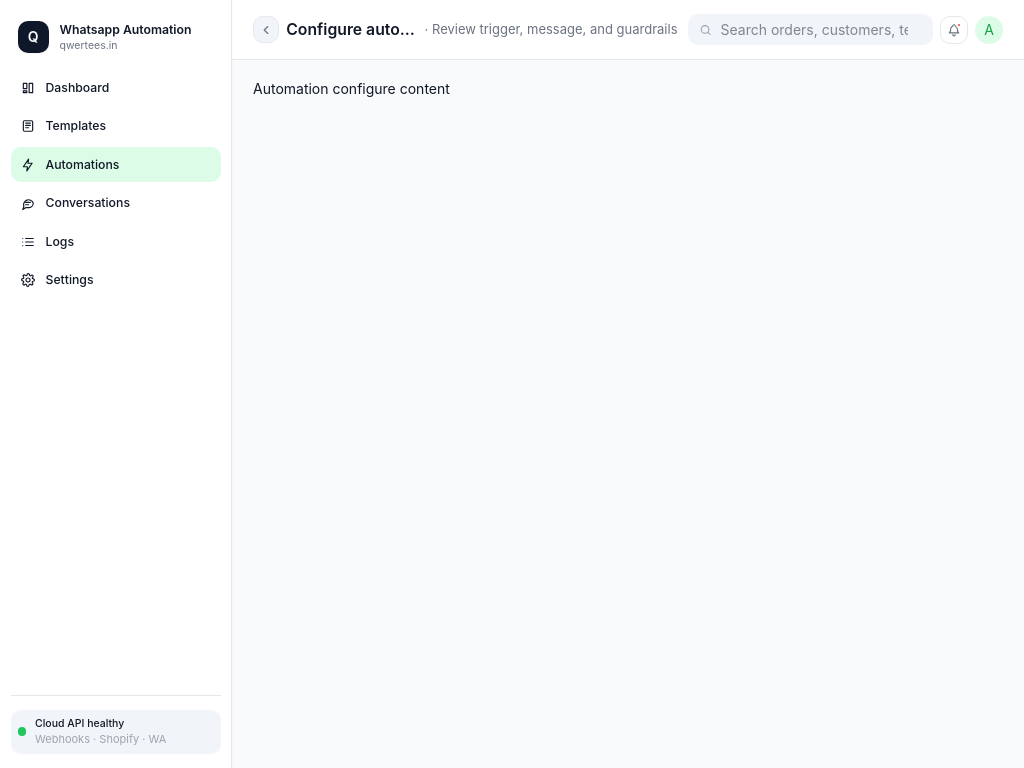
Test: returns from a secondary route when the shell back button is used
This screenshot has width=1024, height=768.
Click the button named "Go back": x=266, y=30 [253,16,279,43]
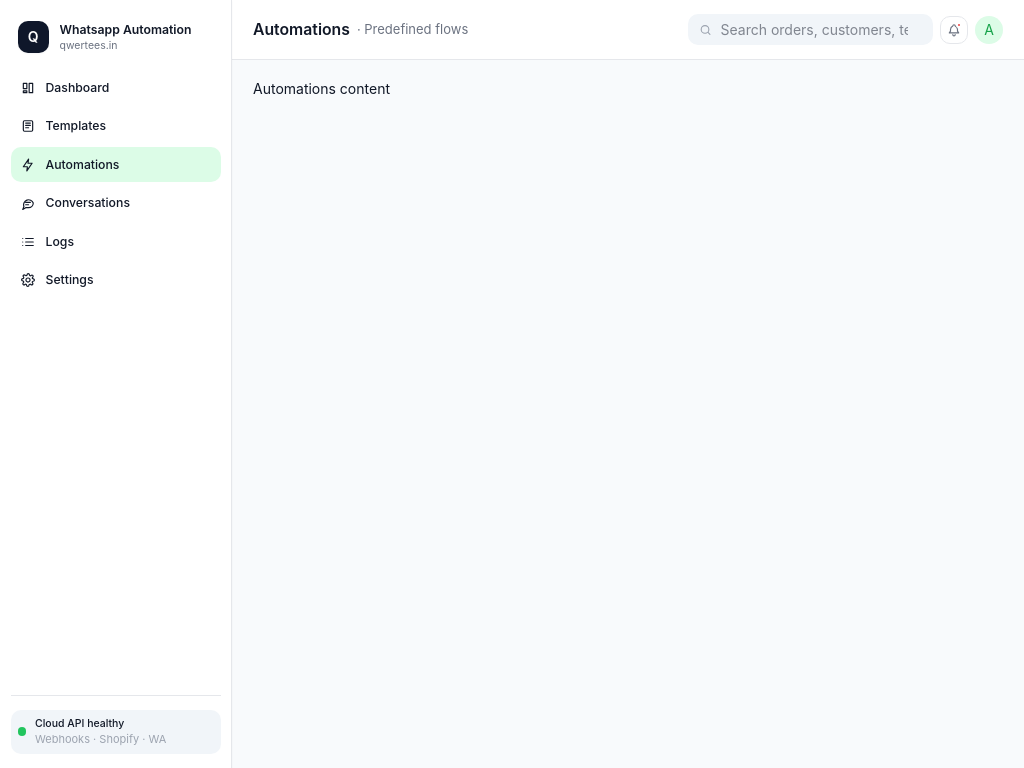
Expected: the heading "Automations" is shown, [253,20,350,39]
Expected: the text "Automations content" is shown, [253,80,390,96]
